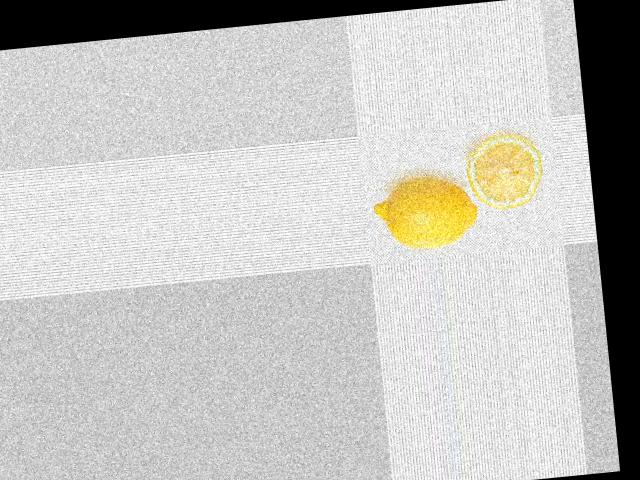lemon: (363, 166, 480, 257)
